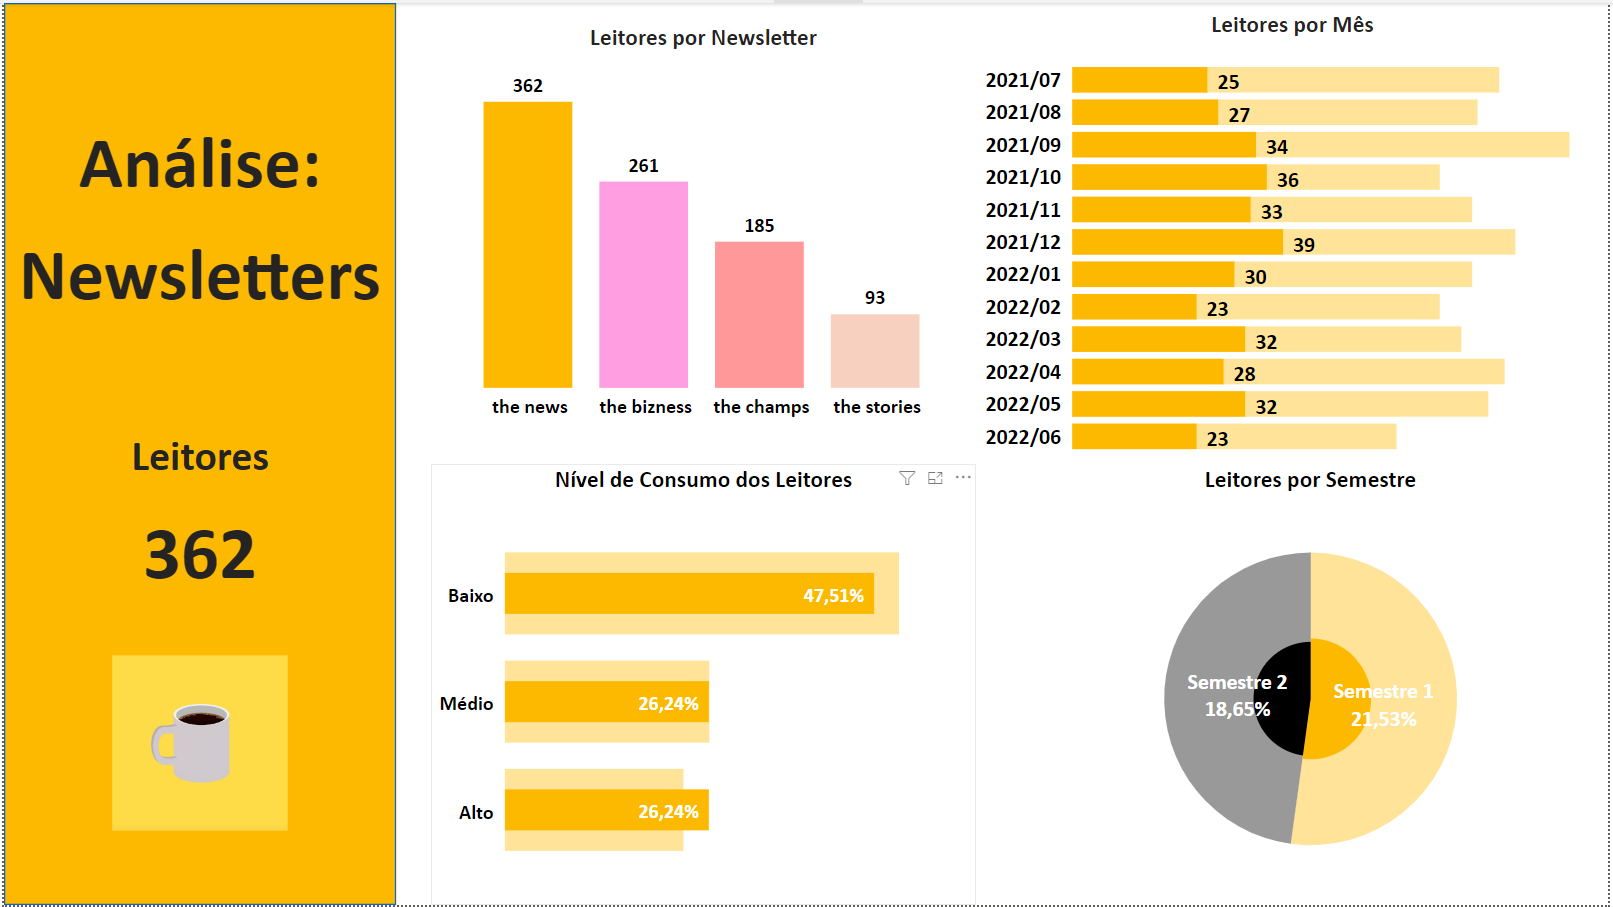

This screenshot's page, from the dashboard's own definition file:
{"tool":"powerbi","page":{"name":"Newsletters","canvas":[1280,720],"ordinal":1},"visuals":[{"type":"clusteredColumnChart","title":"Leitores por Newsletter","fields":{"Category":["dados_limpos.Newsletter"],"Y":["CountNonNull(dados_limpos.codigo)"]},"box":[340.6,15.2,435.2,325.4],"z":0},{"type":"clusteredBarChart","title":"Leitores por Mês","fields":{"Category":["dados_limpos.lastOpened.Variation.Hierarquia de datas.Mês"],"Y":["CountNonNull(dados_limpos.codigo)"]},"box":[811.3,5.1,469,367.6],"z":1000},{"type":"clusteredBarChart","title":"Nível de Consumo dos Leitores","fields":{"Y":["CountNonNull(dados_limpos.codigo)"],"Category":["dados_limpos.Consumo"]},"box":[340.6,367.6,435.2,352.4],"z":2000},{"type":"pieChart","title":"Leitores por Semestre","fields":{"Category":["dados_limpos.Semestre"],"Y":["CountNonNull(dados_limpos.codigo)"]},"box":[811.3,367.6,463.9,352.4],"z":3000},{"type":"shape","box":[0,0,312.7,720],"z":3500},{"type":"textbox","box":[0,86.3,313.1,206.1],"z":4000},{"type":"card","title":"Leitores","fields":{"Values":["CountNonNull(dados_limpos.codigo)"]},"box":[0,340.7,313.1,143.2],"z":4001},{"type":"image","box":[81.1,487.6,150.4,206.2],"z":4002}]}

Visuals, with their boxes in screenshot pixels (x1, y1, x2, y2), scaled from the page's 1280x720 canvas onto the 1613x907 screenshot:
"Leitores por Newsletter" clusteredColumnChart: bbox(429, 19, 978, 429)
"Leitores por Mês" clusteredBarChart: bbox(1022, 6, 1612, 469)
"Nível de Consumo dos Leitores" clusteredBarChart: bbox(429, 463, 978, 906)
"Leitores por Semestre" pieChart: bbox(1022, 463, 1607, 906)
shape: bbox(0, 0, 394, 906)
textbox: bbox(0, 109, 395, 368)
"Leitores" card: bbox(0, 429, 395, 610)
image: bbox(102, 614, 292, 874)
